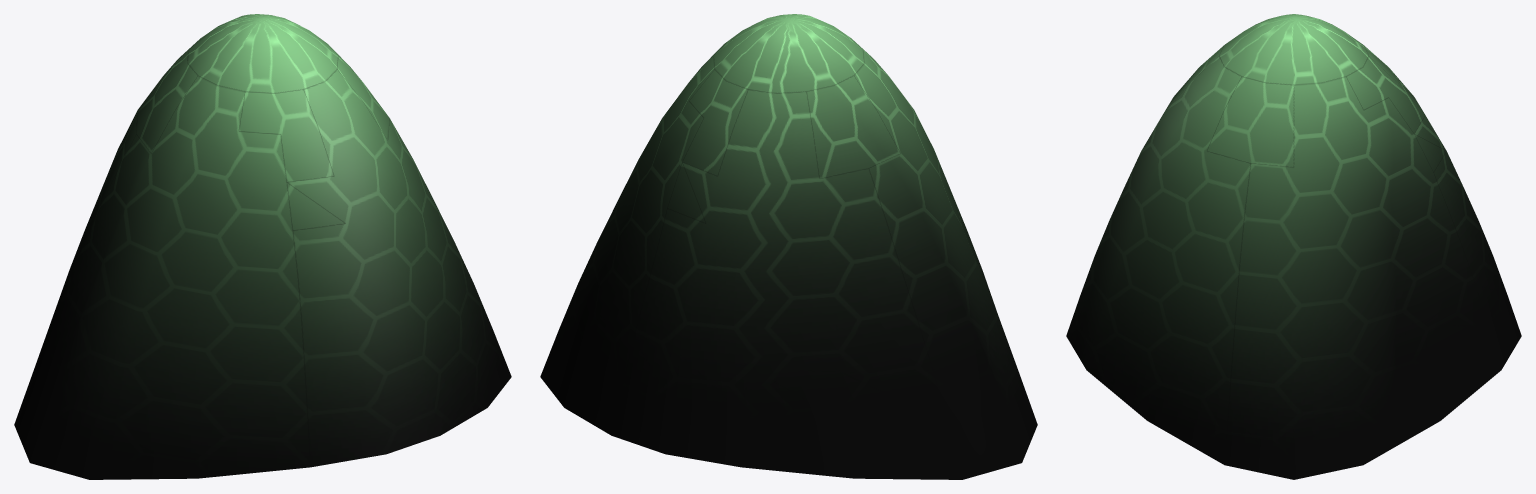
Rendered from shield.DAE.
3 renders of one model, left to right at view 1: azimuth 30°, elevation 25°; view 2: azimuth 150°, elevation 25°; view 3: azimuth 270°, elevation 25°, orthographic. The views are drawn at different scales.
Parts seen in each view (by area): view 1: Sphere001; view 2: Sphere001; view 3: Sphere001.
Boxes of the visible parts, x1,y1,x2,y2 form: Sphere001: [14, 14, 511, 479]; Sphere001: [540, 14, 1037, 479]; Sphere001: [1066, 14, 1521, 479].
Size of the model in its own units: 403 by 320 by 370.
